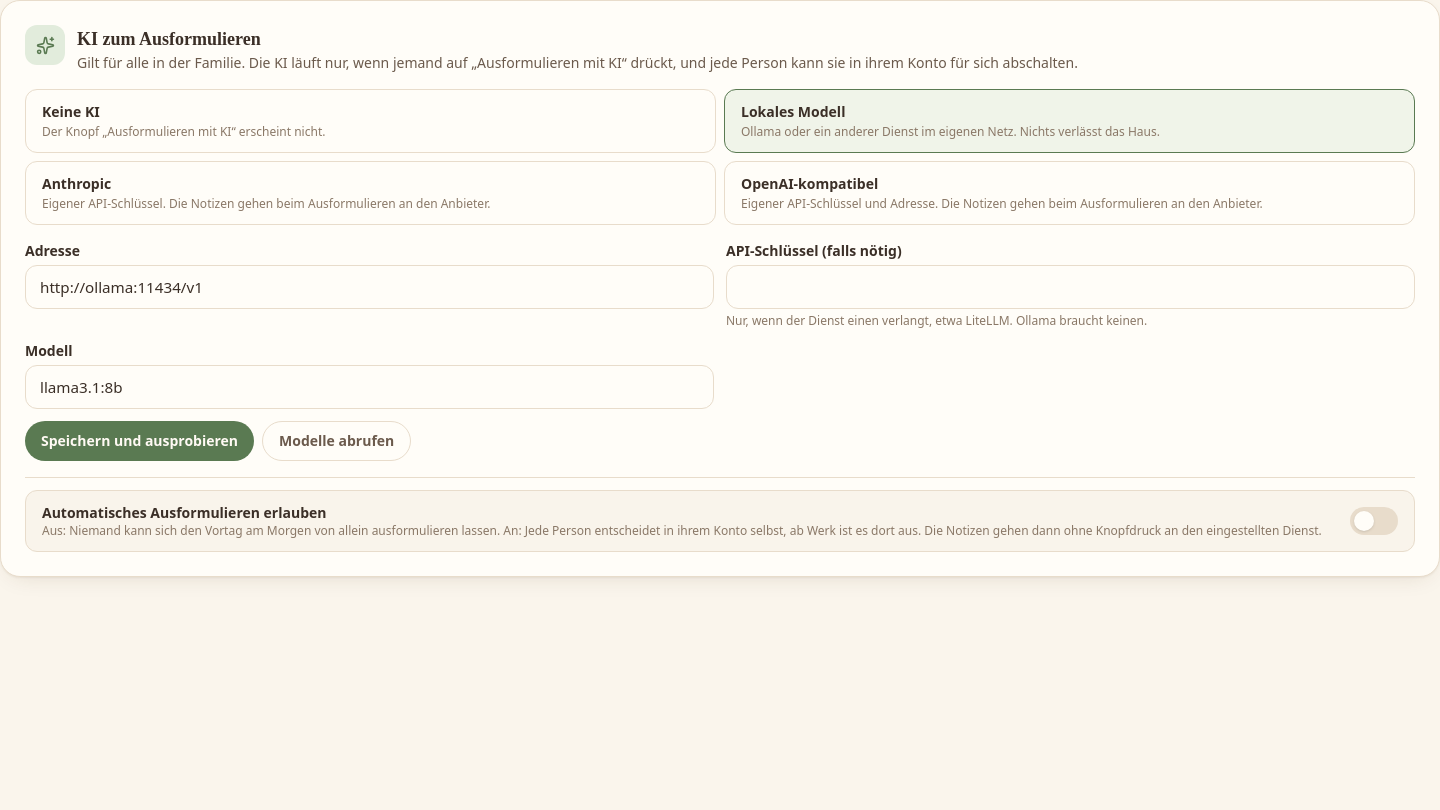
Test: the AI under Server › switches the AI off at once with "Keine KI"
This screenshot has width=1440, height=810.
Click the button "Keine KI Der Knopf „Ausformulieren mit KI“ erscheint nicht." at (71, 112), box [25, 89, 716, 153]
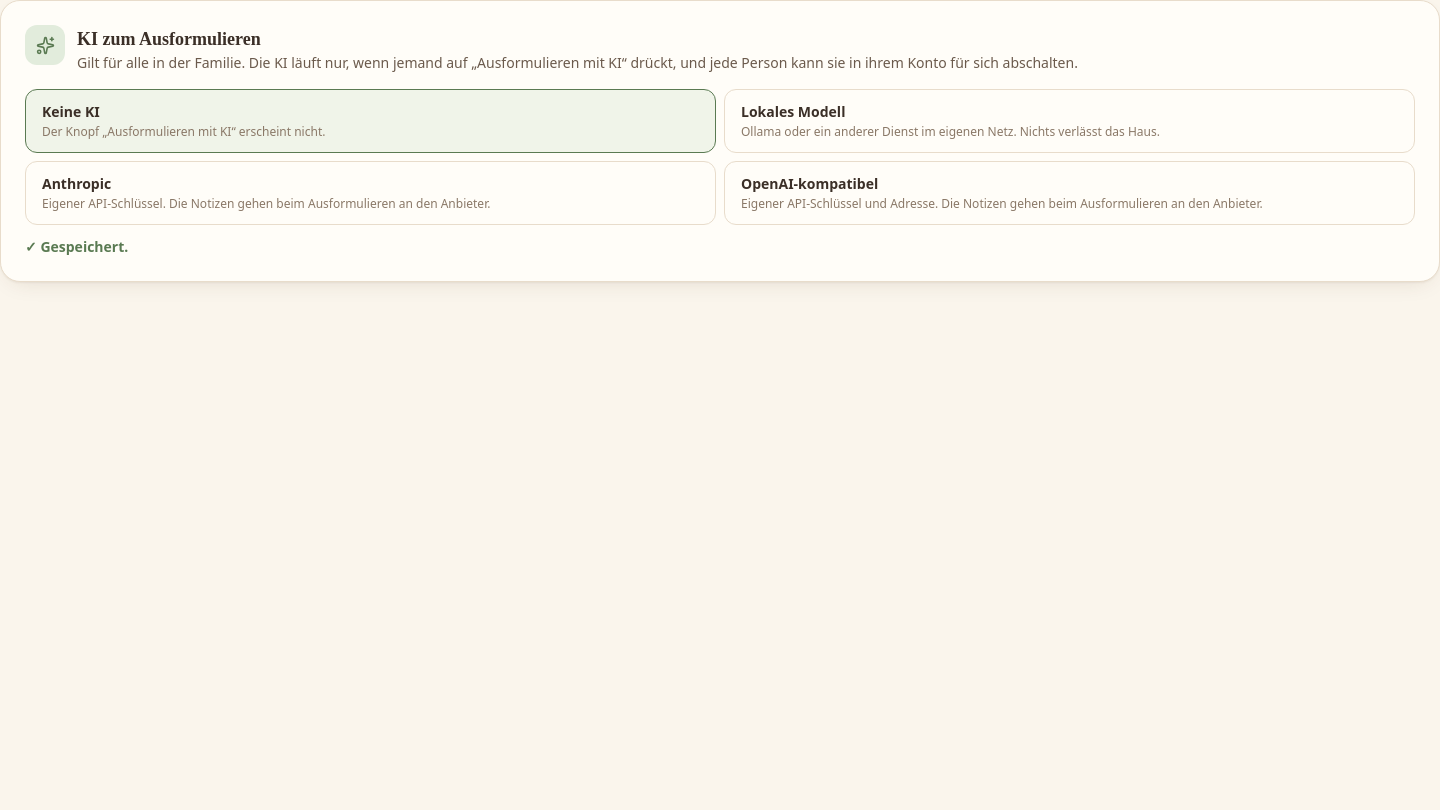
Check: the text "Gespeichert." is shown, box [40, 237, 128, 256]
